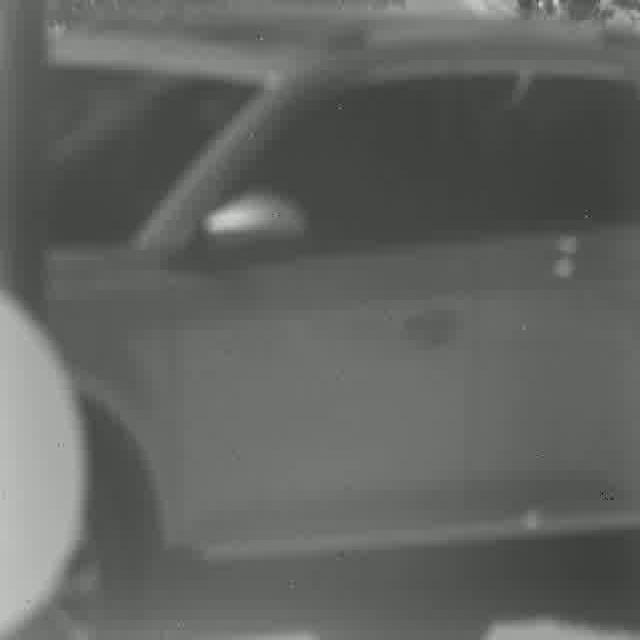Car: (39, 23, 638, 635)
